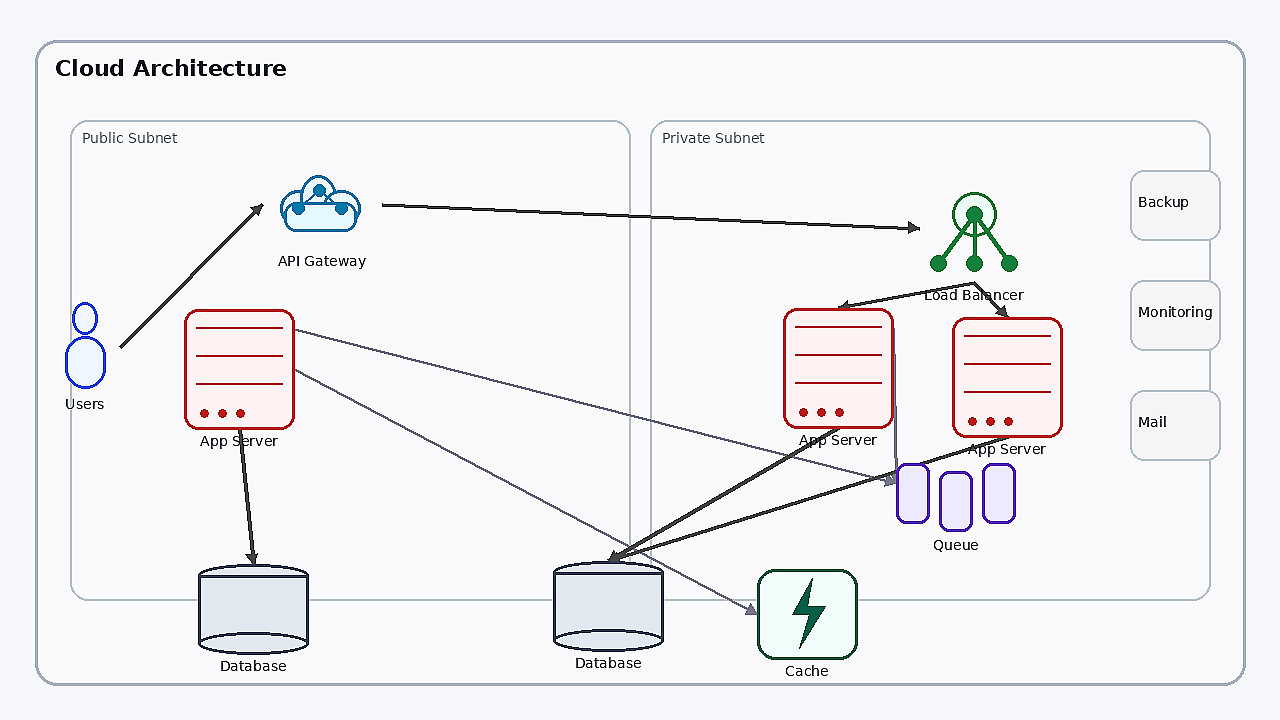API Gateway: (262, 159, 382, 249)
Application Server: (184, 309, 294, 429), (783, 308, 893, 428), (952, 317, 1062, 437)
Cache: (757, 569, 857, 659)
Database: (198, 564, 308, 654), (553, 561, 663, 651)
Load Balancer: (919, 173, 1029, 283)
Message Queue: (896, 463, 1016, 533)
User: (50, 302, 120, 392)
